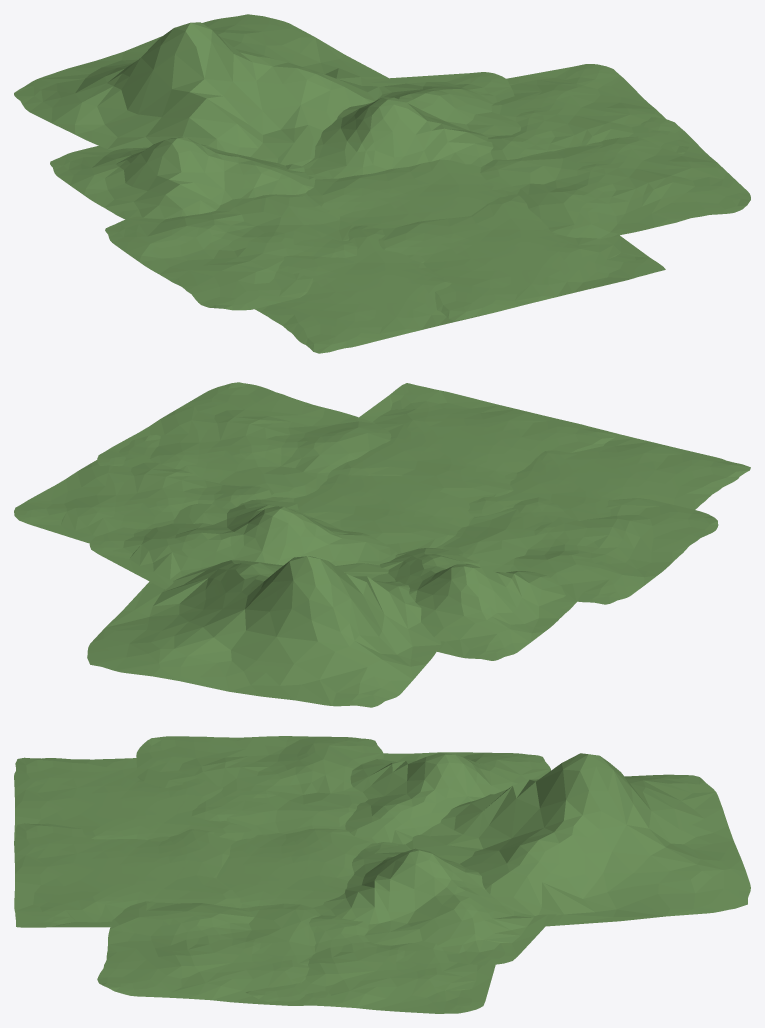
3 renders of one model, top to bottom at view 1: azimuth 30°, elevation 25°; view 2: azimuth 150°, elevation 25°; view 3: azimuth 270°, elevation 25°, orthographic.
Parts seen in each view (by area): view 1: Ground_02__2_, Ground_01__2_, Ground_03__1_, Ground_01, Ground_02__1_, Ground_03__2_, Ground_02, Ground_01__1_, Ground_03; view 2: Ground_02__2_, Ground_01__2_, Ground_01, Ground_03__1_, Ground_02__1_, Ground_02, Ground_03__2_, Ground_01__1_, Ground_03; view 3: Ground_02__2_, Ground_01__2_, Ground_03__1_, Ground_01, Ground_02__1_, Ground_03__2_, Ground_01__1_, Ground_02, Ground_03.
Boxes of the visible parts, left/top/right/bottom form: Ground_02__2_: left=14, top=14, right=388, bottom=166; Ground_01__2_: left=480, top=117, right=750, bottom=238; Ground_03__1_: left=354, top=191, right=665, bottom=320; Ground_01: left=105, top=193, right=357, bottom=310; Ground_02__1_: left=302, top=72, right=520, bottom=179; Ground_03__2_: left=255, top=225, right=485, bottom=353; Ground_02: left=50, top=137, right=315, bottom=219; Ground_01__1_: left=488, top=64, right=689, bottom=159; Ground_03: left=306, top=159, right=508, bottom=262; Ground_02__2_: left=87, top=556, right=441, bottom=707; Ground_01__2_: left=97, top=382, right=391, bottom=498; Ground_01: left=436, top=497, right=718, bottom=604; Ground_03__1_: left=327, top=383, right=615, bottom=516; Ground_02__1_: left=89, top=497, right=397, bottom=589; Ground_02: left=379, top=548, right=576, bottom=660; Ground_03__2_: left=468, top=426, right=750, bottom=520; Ground_01__1_: left=14, top=435, right=272, bottom=543; Ground_03: left=293, top=472, right=516, bottom=553; Ground_02__2_: left=406, top=753, right=750, bottom=926; Ground_01__2_: left=97, top=901, right=336, bottom=1005; Ground_03__1_: left=14, top=823, right=258, bottom=927; Ground_01: left=136, top=736, right=383, bottom=835; Ground_02__1_: left=312, top=842, right=556, bottom=965; Ground_03__2_: left=14, top=757, right=256, bottom=840; Ground_01__1_: left=245, top=915, right=495, bottom=1013; Ground_02: left=345, top=752, right=550, bottom=844; Ground_03: left=148, top=828, right=372, bottom=907.
Bounding box in the file's own units: 7727 × 1147 × 8864.
1 material, 1 textured.
